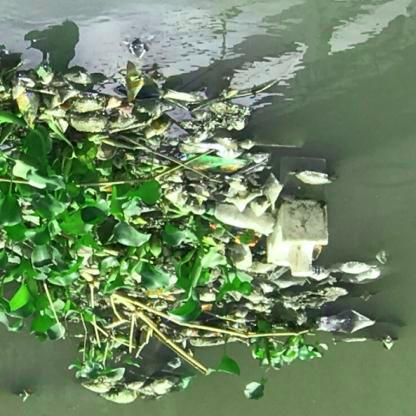Plastic: (203, 200, 278, 236)
Trash: (267, 197, 328, 280), (330, 258, 386, 284), (120, 72, 147, 102)
